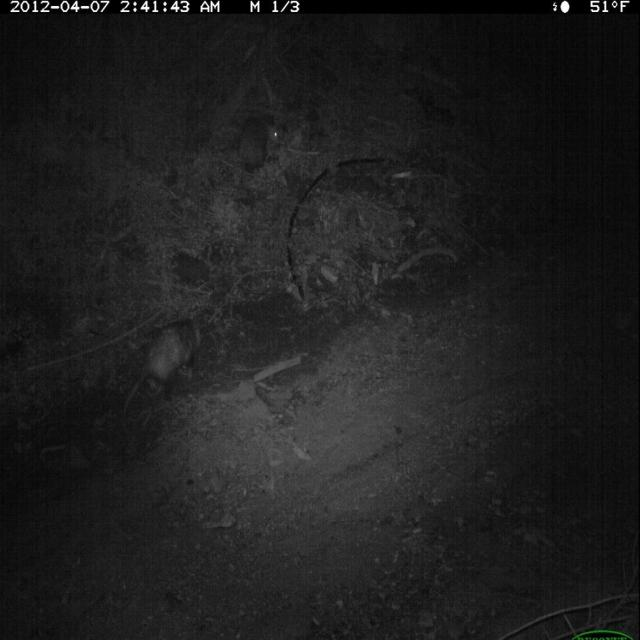opossum: (118, 309, 212, 442), (229, 101, 295, 186)
